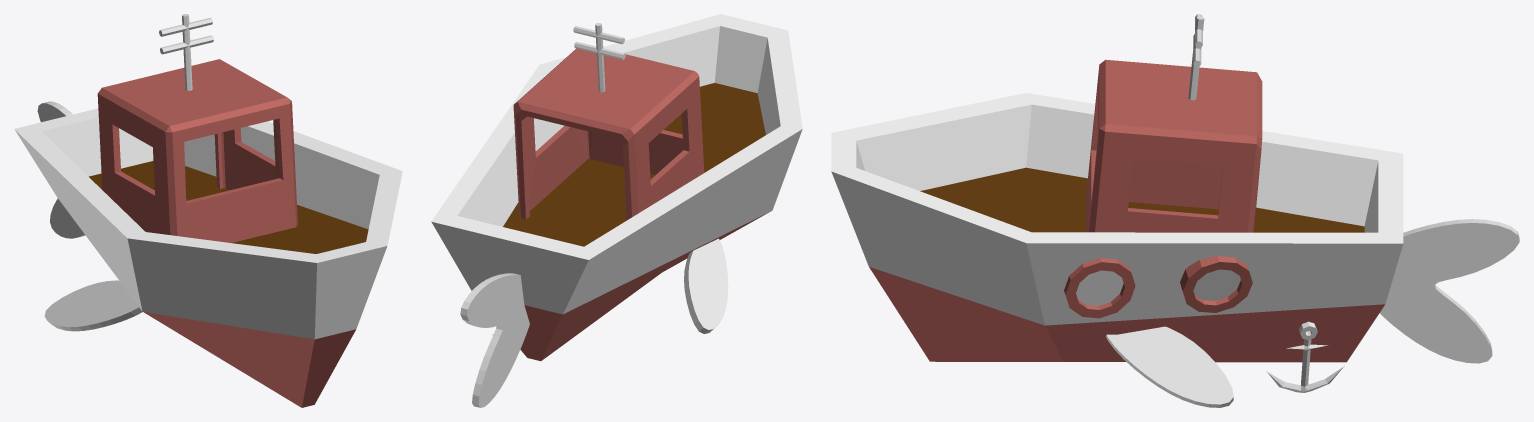
File: boad.fbx
The picture shows the model from 3 angles, left to right: view 1: azimuth 30°, elevation 25°; view 2: azimuth 150°, elevation 25°; view 3: azimuth 270°, elevation 25°; orthographic projection. The views are drawn at different scales.
Parts seen in each view (by area): view 1: Cube; view 2: Cube; view 3: Cube.
Boxes of the visible parts, box(x1,y1,x2,y2) form: Cube: box(14, 14, 402, 407); Cube: box(431, 14, 802, 407); Cube: box(831, 14, 1519, 407).
Bounding box in the file's own units: 354 × 685 × 384.
